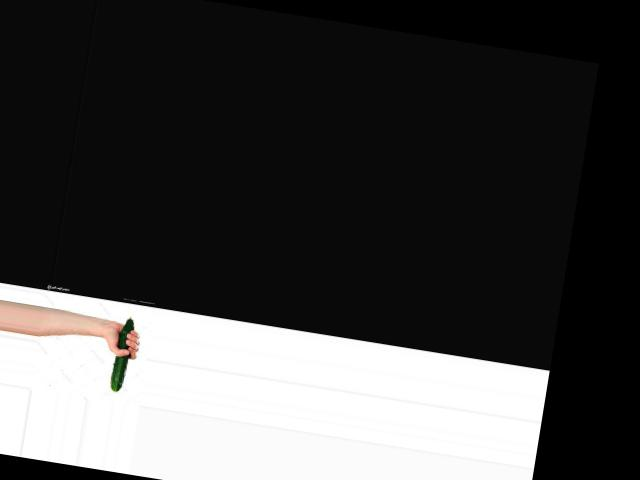cucumber: (109, 315, 136, 392)
